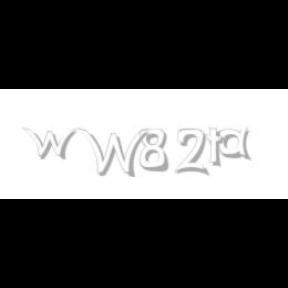2: (174, 128, 208, 176)
8: (140, 128, 168, 172)
W: (77, 128, 149, 178)
a: (218, 128, 255, 160)
t: (206, 128, 228, 168)
w: (22, 128, 82, 160)
